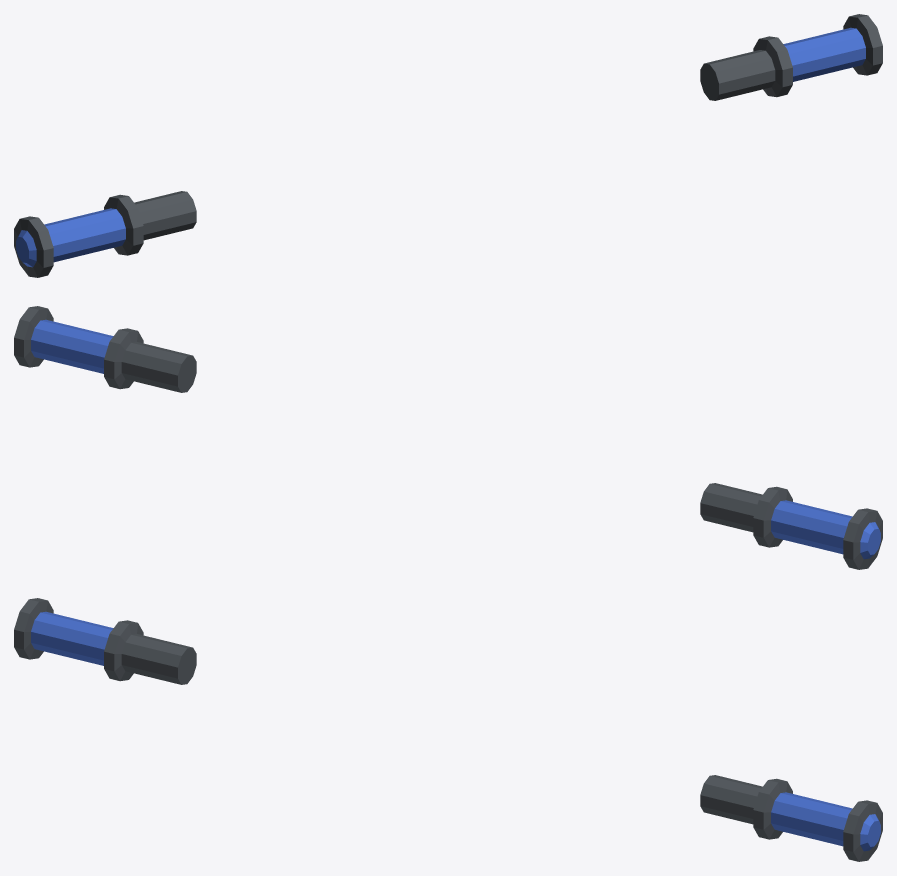
The model's file is Personal_Vehicle_02_Footrest_Blue.fbx.
3 renders of one model, top to bottom at view 1: azimuth 30°, elevation 25°; view 2: azimuth 150°, elevation 25°; view 3: azimuth 330°, elevation 25°, orthographic.
Parts seen in each view (by area): view 1: Personal_Vehicle_02_Footrest_Blue; view 2: Personal_Vehicle_02_Footrest_Blue; view 3: Personal_Vehicle_02_Footrest_Blue.
Part boxes in pixels (left/top/right/bottom): Personal_Vehicle_02_Footrest_Blue: left=14, top=14, right=882, bottom=277; Personal_Vehicle_02_Footrest_Blue: left=14, top=306, right=882, bottom=569; Personal_Vehicle_02_Footrest_Blue: left=14, top=598, right=882, bottom=861.
Bounding box in the file's own units: 131 × 8.31 × 7.91.
Materials: 1 (1 with a texture image).
